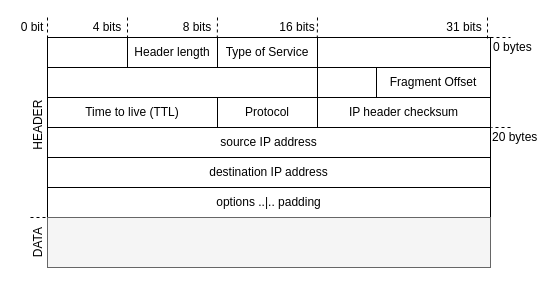
The diagram is 558 pixels wide and 285 high, and some of its shapes have lost their labels. Here are the shapes that lost their labels. From the top down, the centre of each, then its label:
point 87,52: Version
point 403,52: Total Length
point 182,82: Identifier of IP Packet
point 347,82: Flags
point 268,242: data .... ....
